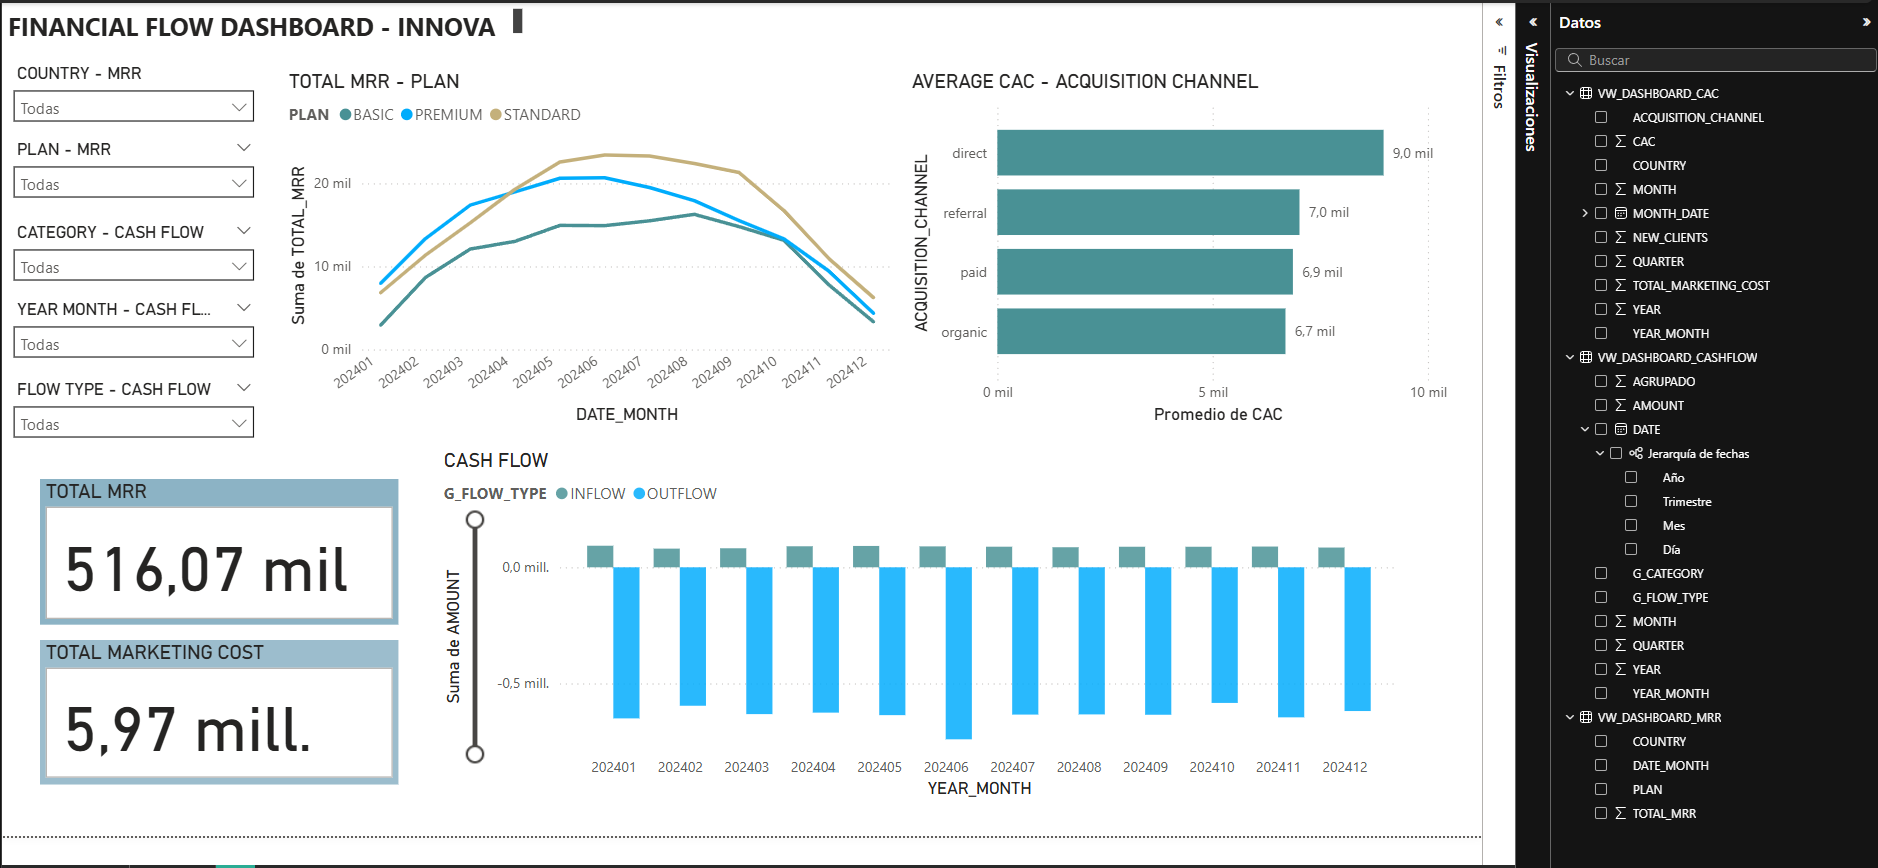

The dashboard page shown, as its layout file describes it:
{"tool":"powerbi","page":{"name":"Página 1","canvas":[1280,720],"ordinal":0},"visuals":[{"type":"lineChart","title":"TOTAL MRR - PLAN","fields":{"Y":["Sum(VW_DASHBOARD_MRR.TOTAL_MRR)"],"Series":["VW_DASHBOARD_MRR.PLAN"],"Category":["VW_DASHBOARD_MRR.DATE_MONTH"]},"box":[243.4,57.3,531.2,311.2],"z":0},{"type":"clusteredBarChart","title":"AVERAGE CAC - ACQUISITION CHANNEL","fields":{"Category":["VW_DASHBOARD_CAC.ACQUISITION_CHANNEL"],"Y":["Avg(VW_DASHBOARD_CAC.CAC)"]},"box":[781.6,57.3,483.2,311.2],"z":1000},{"type":"lineClusteredColumnComboChart","title":"CASH FLOW","fields":{"Category":["VW_DASHBOARD_CASHFLOW.YEAR_MONTH"],"Y":["Sum(VW_DASHBOARD_CASHFLOW.AMOUNT)"],"Series":["VW_DASHBOARD_CASHFLOW.G_FLOW_TYPE"]},"box":[376.7,384.9,835.4,306.5],"z":2000},{"type":"slicer","fields":{"Values":["VW_DASHBOARD_MRR.COUNTRY"]},"box":[0,48,228.2,72.5],"z":3000},{"type":"cardVisual","title":"TOTAL MRR","fields":{"Data":["Sum(VW_DASHBOARD_MRR.TOTAL_MRR)"]},"box":[32.8,411.8,310.1,126.4],"z":4000},{"type":"cardVisual","title":"TOTAL MARKETING COST","fields":{"Data":["Sum(VW_DASHBOARD_CAC.TOTAL_MARKETING_COST)"]},"box":[32.8,551.1,310.1,125.2],"z":5000},{"type":"slicer","fields":{"Values":["VW_DASHBOARD_MRR.PLAN"]},"box":[0,113.5,228.2,71.4],"z":6000},{"type":"slicer","fields":{"Values":["VW_DASHBOARD_CASHFLOW.G_CATEGORY"]},"box":[0,184.9,228.2,71.4],"z":7000},{"type":"slicer","fields":{"Values":["VW_DASHBOARD_CASHFLOW.YEAR_MONTH"]},"box":[0,251.6,228.2,71.4],"z":8000},{"type":"slicer","fields":{"Values":["VW_DASHBOARD_CASHFLOW.G_FLOW_TYPE"]},"box":[0,320.6,228.2,71.4],"z":9000},{"type":"textbox","box":[0,0,455.1,33.9],"z":10000}]}

Visuals, with their boxes on the page's 1280x720 design canvas (x1, y1, x2, y2). These are canvas units, not pixel positions in the 1878x868 screenshot, which may show the page scaled, cropped or inside an application window:
"TOTAL MRR - PLAN" lineChart: (x1=243, y1=57, x2=775, y2=368)
"AVERAGE CAC - ACQUISITION CHANNEL" clusteredBarChart: (x1=782, y1=57, x2=1265, y2=368)
"CASH FLOW" lineClusteredColumnComboChart: (x1=377, y1=385, x2=1212, y2=691)
slicer - VW_DASHBOARD_MRR.COUNTRY: (x1=0, y1=48, x2=228, y2=120)
"TOTAL MRR" cardVisual: (x1=33, y1=412, x2=343, y2=538)
"TOTAL MARKETING COST" cardVisual: (x1=33, y1=551, x2=343, y2=676)
slicer - VW_DASHBOARD_MRR.PLAN: (x1=0, y1=114, x2=228, y2=185)
slicer - VW_DASHBOARD_CASHFLOW.G_CATEGORY: (x1=0, y1=185, x2=228, y2=256)
slicer - VW_DASHBOARD_CASHFLOW.YEAR_MONTH: (x1=0, y1=252, x2=228, y2=323)
slicer - VW_DASHBOARD_CASHFLOW.G_FLOW_TYPE: (x1=0, y1=321, x2=228, y2=392)
textbox: (x1=0, y1=0, x2=455, y2=34)
